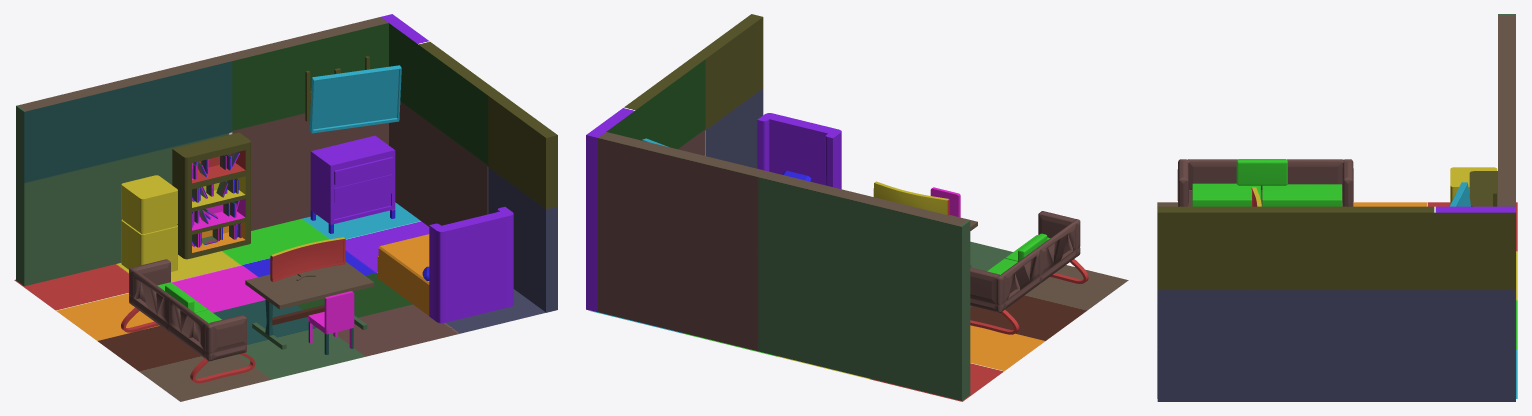
Rendered from Scene1_Sketchfab.fbx.
3 renders of one model, left to right at view 1: azimuth 30°, elevation 25°; view 2: azimuth 150°, elevation 25°; view 3: azimuth 270°, elevation 25°, orthographic. The views are drawn at different scales.
Parts seen in each view (by area): view 1: Wall, Floor, Bed, pCube5, Dresser, Couch:Couch, TV, Mini_fridge, Table, wideMonitor:pCube3, Chair, Couch:sofaLeg1; view 2: Wall, Floor, Couch:Couch, Bed, wideMonitor:pCube3; view 3: Wall, Couch:Couch, Couch:Pillow1, Couch:Pillow, Couch:Pillow2, Floor, pCube5, Mini_fridge, TV.
Boxes of the visible parts, box(x1,y1,x2,y2) form: Wall: box(16, 14, 557, 312); Floor: box(14, 202, 549, 401); Bed: box(377, 207, 513, 323); pCube5: box(172, 132, 250, 259); Dresser: box(310, 135, 395, 233); Couch:Couch: box(129, 259, 246, 361); TV: box(309, 65, 401, 133); Mini_fridge: box(121, 175, 177, 271); Table: box(245, 262, 374, 349); wideMonitor:pCube3: box(270, 237, 345, 282); Chair: box(308, 291, 354, 354); Couch:sofaLeg1: box(190, 353, 255, 383); Wall: box(586, 14, 970, 400); Floor: box(590, 241, 1128, 401); Couch:Couch: box(970, 211, 1080, 312); Bed: box(757, 113, 841, 189); wideMonitor:pCube3: box(873, 181, 949, 215); Wall: box(1157, 14, 1515, 401); Couch:Couch: box(1177, 159, 1353, 206); Couch:Pillow1: box(1262, 184, 1342, 206); Couch:Pillow: box(1192, 183, 1260, 206); Couch:Pillow2: box(1236, 159, 1287, 185); Floor: box(1157, 202, 1517, 398); pCube5: box(1469, 171, 1497, 206); Mini_fridge: box(1450, 167, 1497, 203); TV: box(1449, 182, 1470, 206).
Bounding box in the file's own units: 31.9 × 14.19 × 24.37.
3 materials, 2 textured.
